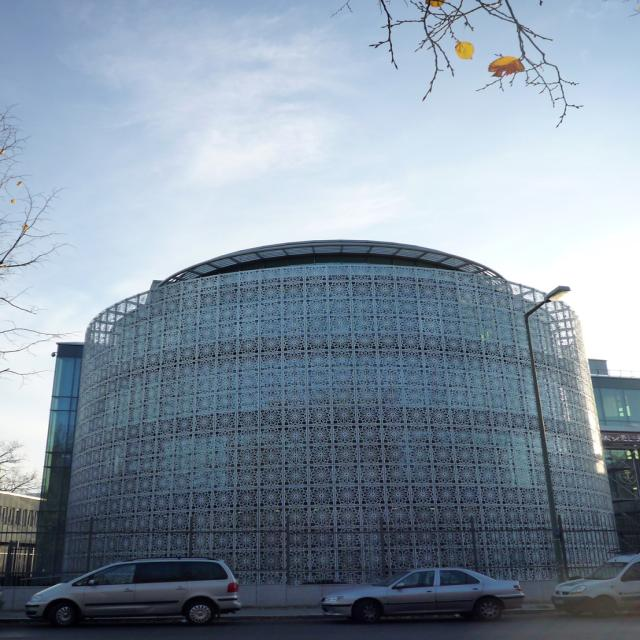car: (26, 560, 263, 627), (318, 562, 523, 622)
